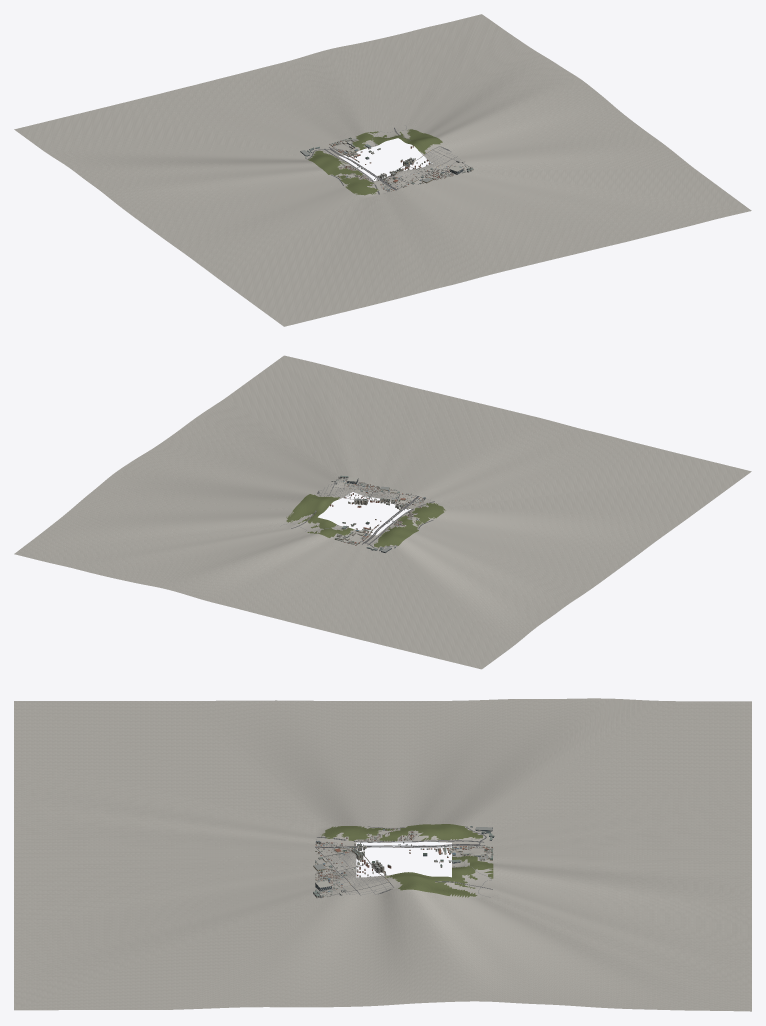
The picture shows the model from 3 angles, top to bottom: view 1: azimuth 30°, elevation 25°; view 2: azimuth 150°, elevation 25°; view 3: azimuth 270°, elevation 25°; orthographic projection. The views are drawn at different scales.
Parts seen in each view (by area): view 1: ctx-ground, ctx-buildings, ctx-far, ctx-roads, ctx-streets; view 2: ctx-ground, ctx-buildings, ctx-far, ctx-roads; view 3: ctx-ground, ctx-buildings, ctx-far, ctx-roads, ctx-streets.
Boxes of the visible parts, bbox=[...] form: ctx-ground: bbox=[14, 14, 751, 326]; ctx-buildings: bbox=[300, 137, 473, 191]; ctx-far: bbox=[329, 139, 469, 191]; ctx-roads: bbox=[307, 127, 469, 194]; ctx-streets: bbox=[323, 125, 468, 193]; ctx-ground: bbox=[14, 355, 751, 669]; ctx-buildings: bbox=[330, 475, 425, 552]; ctx-far: bbox=[337, 478, 424, 545]; ctx-roads: bbox=[291, 479, 434, 548]; ctx-ground: bbox=[14, 698, 751, 1011]; ctx-buildings: bbox=[313, 826, 494, 898]; ctx-far: bbox=[315, 828, 493, 897]; ctx-roads: bbox=[315, 826, 492, 896]; ctx-streets: bbox=[315, 833, 491, 897].
Size of the model in its own units: 8000 by 158 by 8000.
17 materials, 15 textured.
